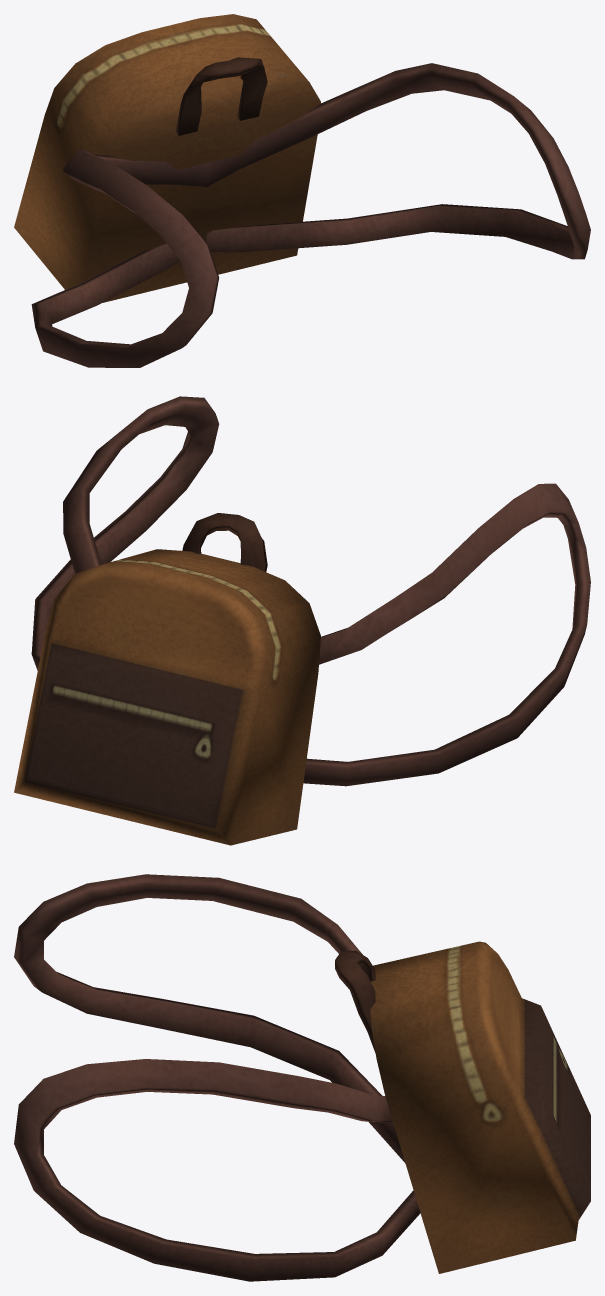
Rendered from SM_BackpackA.FBX.
3 views of the same model, one above another, from view 1: azimuth 30°, elevation 25°; view 2: azimuth 150°, elevation 25°; view 3: azimuth 270°, elevation 25° (orthographic). The views are drawn at different scales.
Parts seen in each view (by area): view 1: SM_BackpackA; view 2: SM_BackpackA; view 3: SM_BackpackA.
Boxes of the visible parts, x1,y1,x2,y2 form: SM_BackpackA: [14, 14, 590, 367]; SM_BackpackA: [14, 396, 590, 845]; SM_BackpackA: [14, 874, 590, 1281].
Size of the model in its own units: 45.44 by 44.99 by 22.31.
